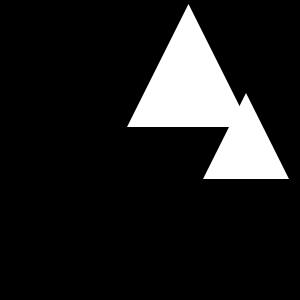triangle: (127, 4, 250, 127), (203, 93, 289, 179)
